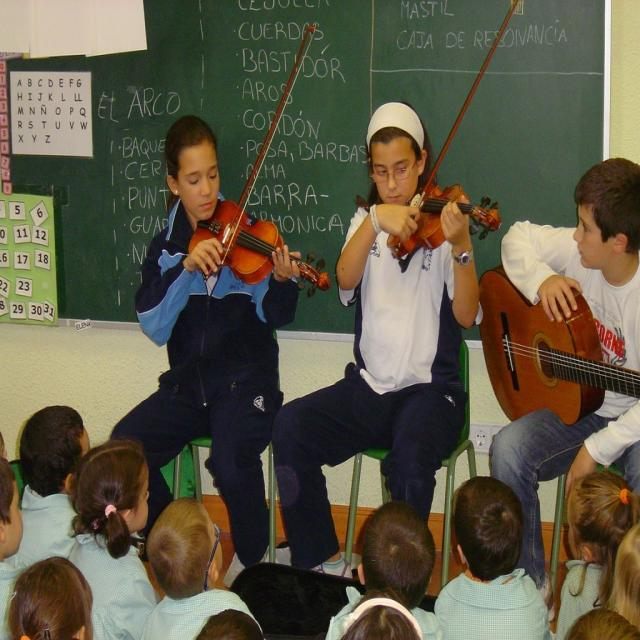guitar: (474, 260, 640, 423)
violin: (189, 196, 330, 292), (387, 180, 504, 261)
